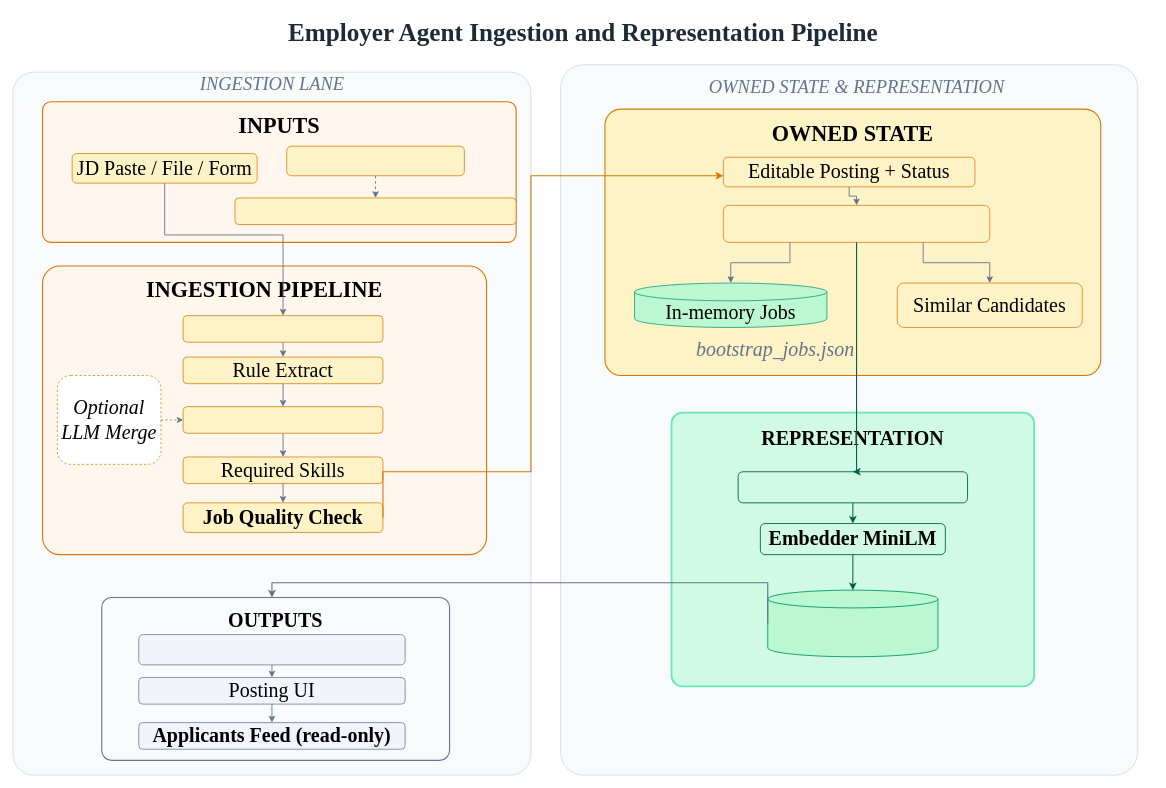
Some shapes in this 1166 by 788 pixel diagram are drawn without their labels. The centre of each missing label's shape, as x and y in pixels:
Document Text Template: the point at 852,487
External Jobs API: the point at 375,160
Job Field Normalize: the point at 282,419
job-updated event: the point at 271,649
Live sync fetch / re-embed: the point at 375,211
Text Clean: the point at 282,328
Vector Index: the point at 852,623
Versioned Job Snapshot: the point at 856,223
